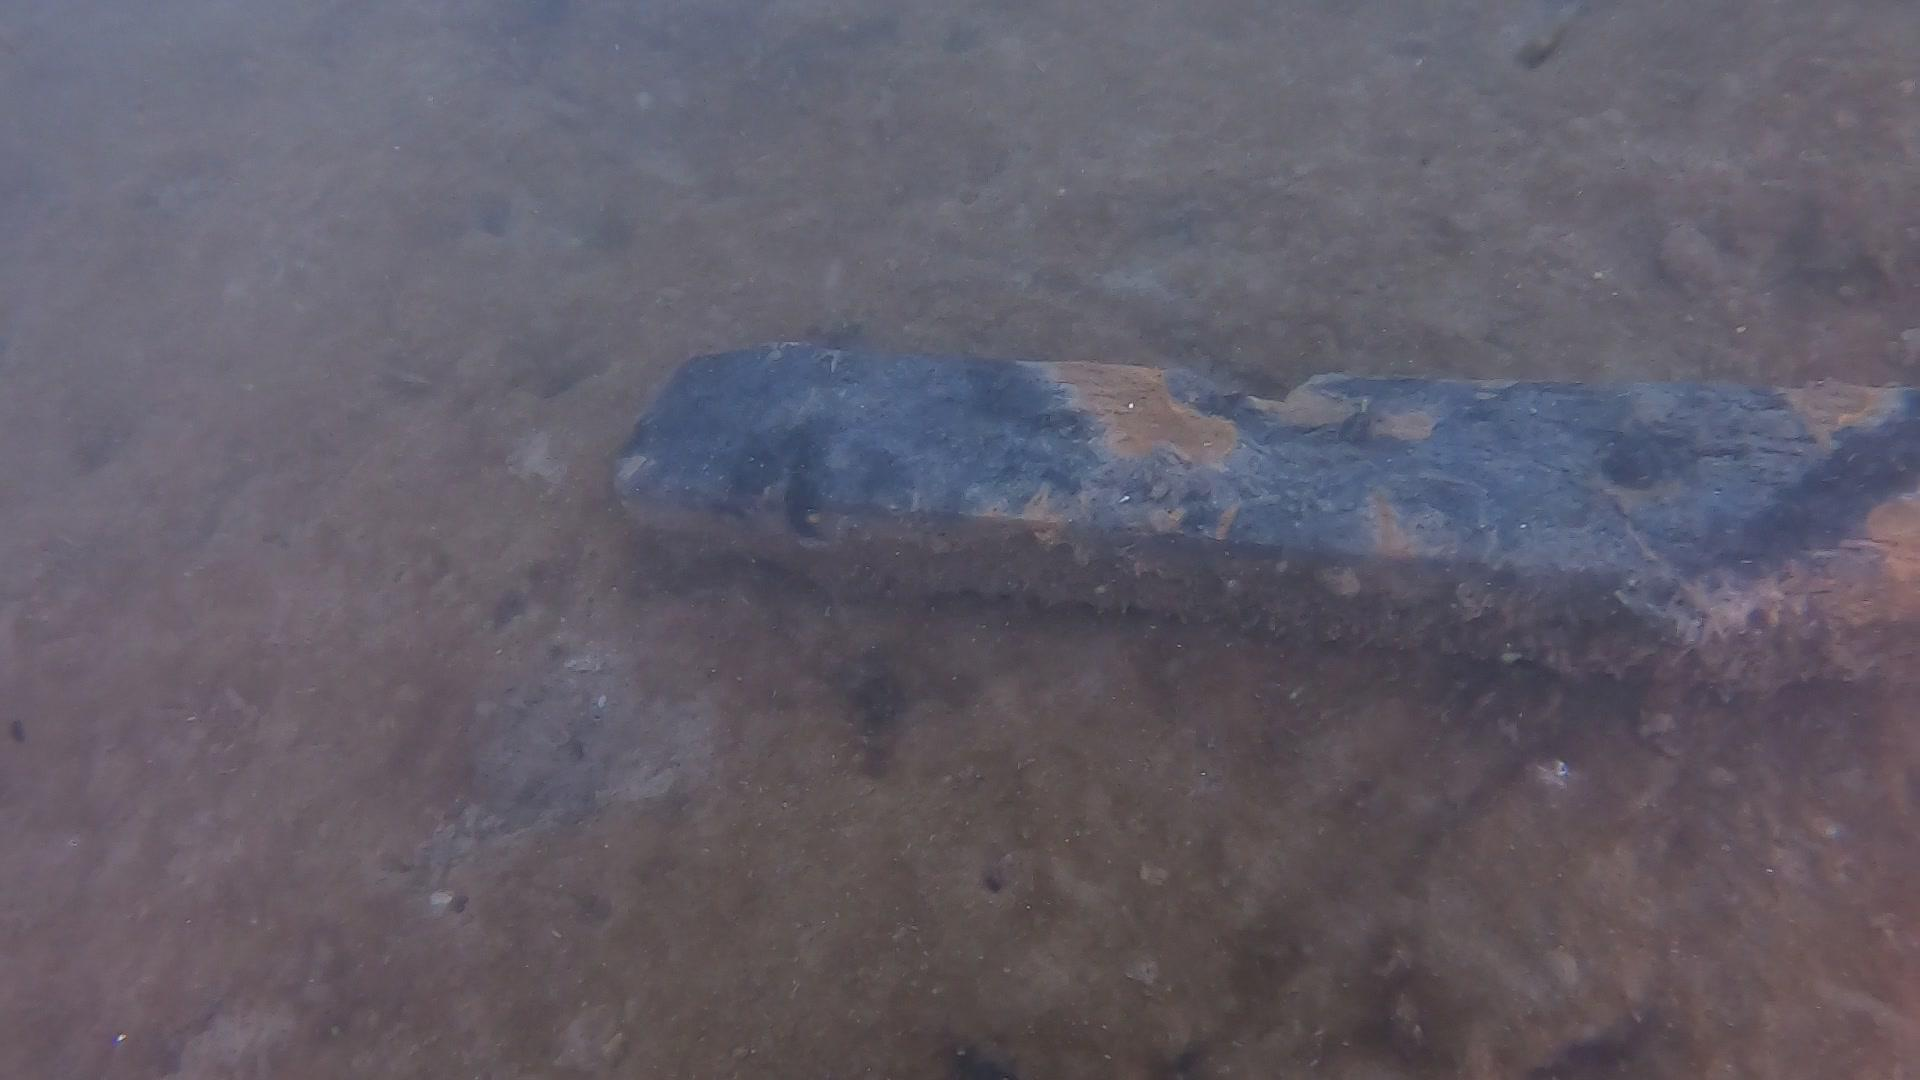wood: (599, 332, 1920, 705)
